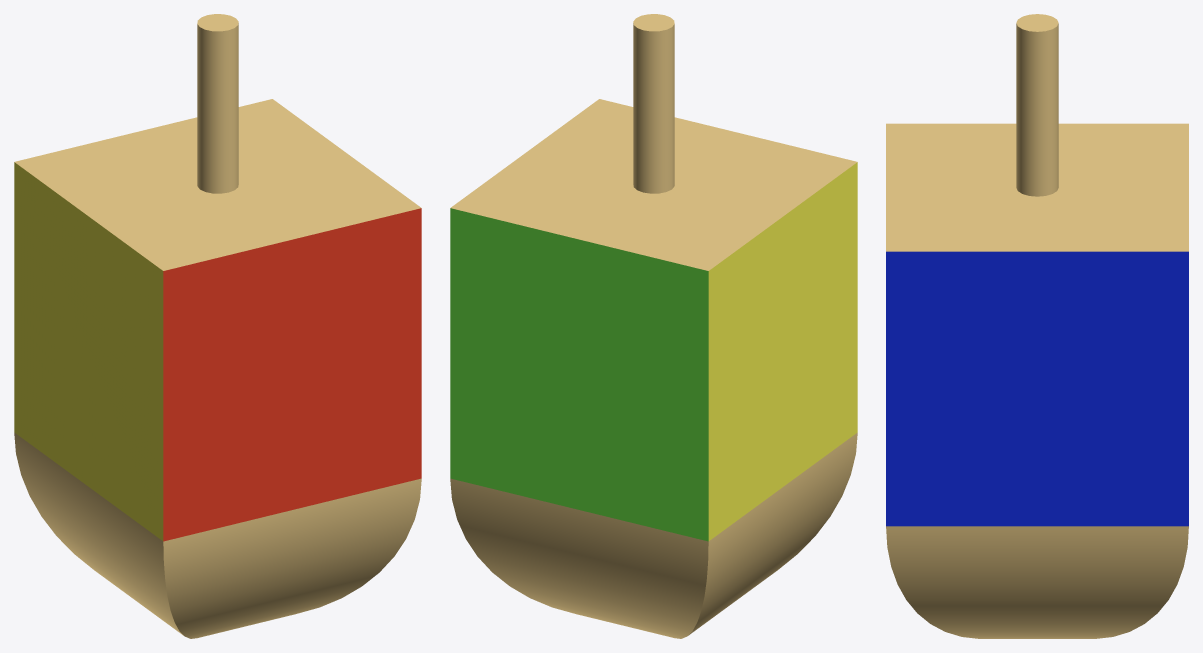
Rendered from spinner-rounded.glb.
3 renders of one model, left to right at view 1: azimuth 30°, elevation 25°; view 2: azimuth 150°, elevation 25°; view 3: azimuth 270°, elevation 25°, orthographic.
Parts seen in each view (by area): view 1: Spinner; view 2: Spinner; view 3: Spinner.
Boxes of the visible parts, bbox=[...] form: Spinner: bbox=[14, 14, 421, 638]; Spinner: bbox=[450, 14, 857, 638]; Spinner: bbox=[886, 14, 1188, 638].
Size of the model in its own units: 2 by 4.4 by 2.
2 materials, 1 textured.
